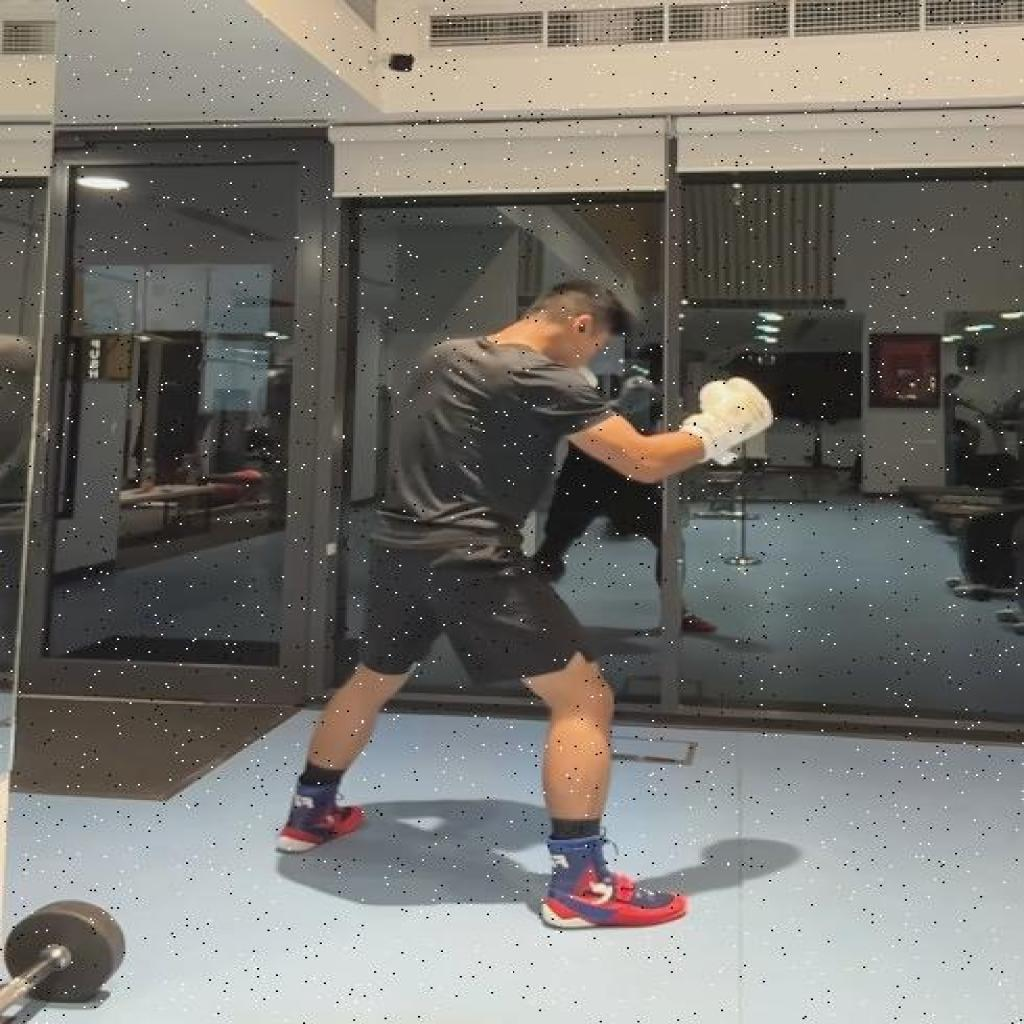uppercut: (276, 278, 773, 933)
